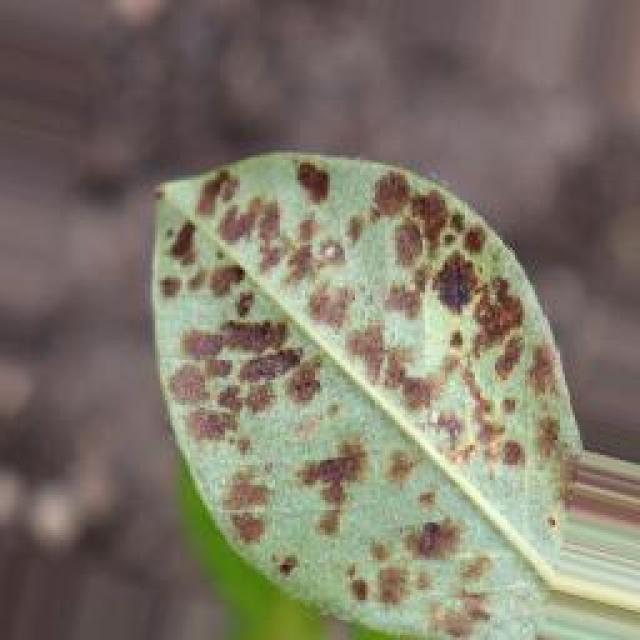Whitefly: (106, 150, 588, 626)
